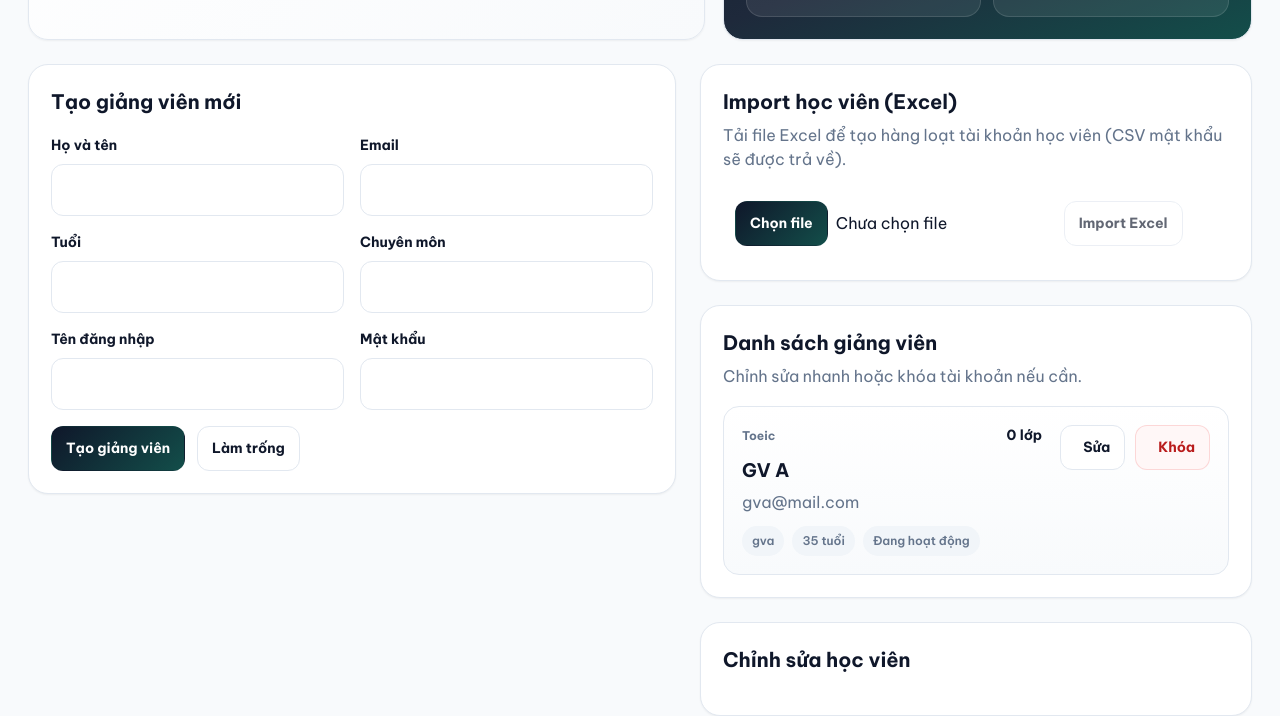
it: AdminUsersPage › cap nhat giang vien thanh cong
(page scrolled)
Click the button "Sửa" at (1093, 447), box 1060,425 -> 1125,470
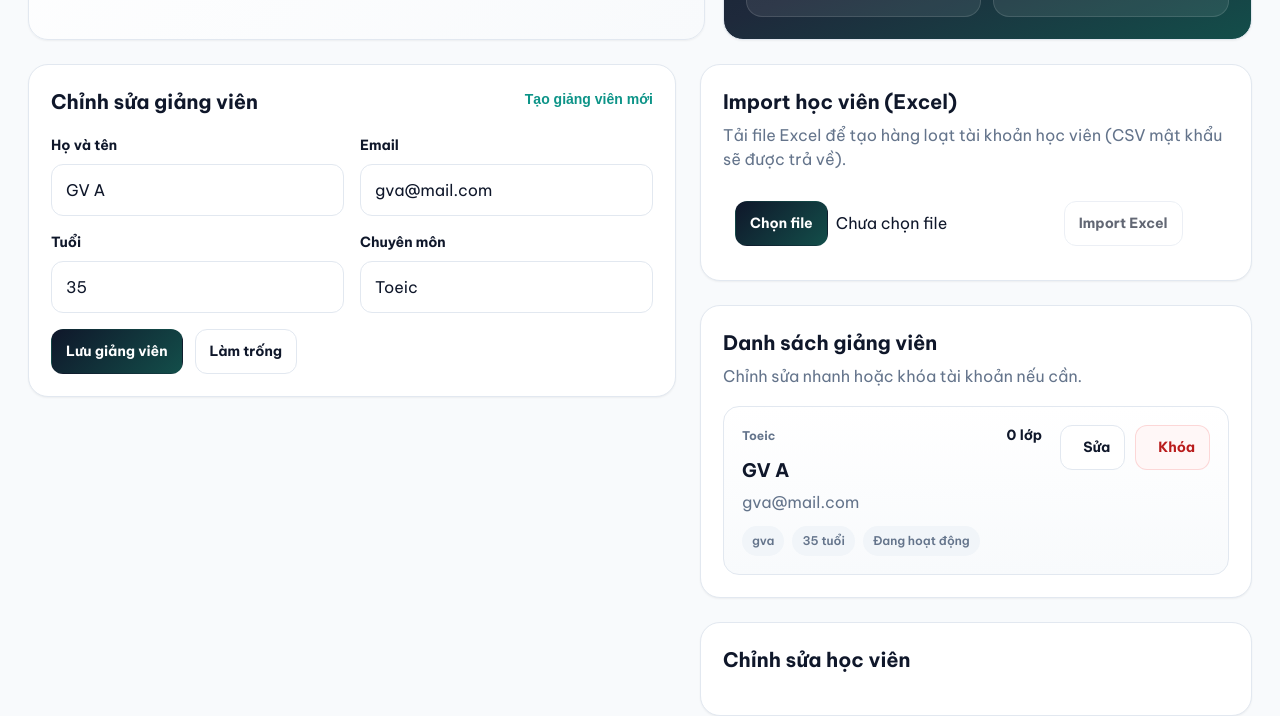
Replace the text in the field labelled "Họ và tên" with "GV Updated" at (198, 190), box 51,164 -> 344,216
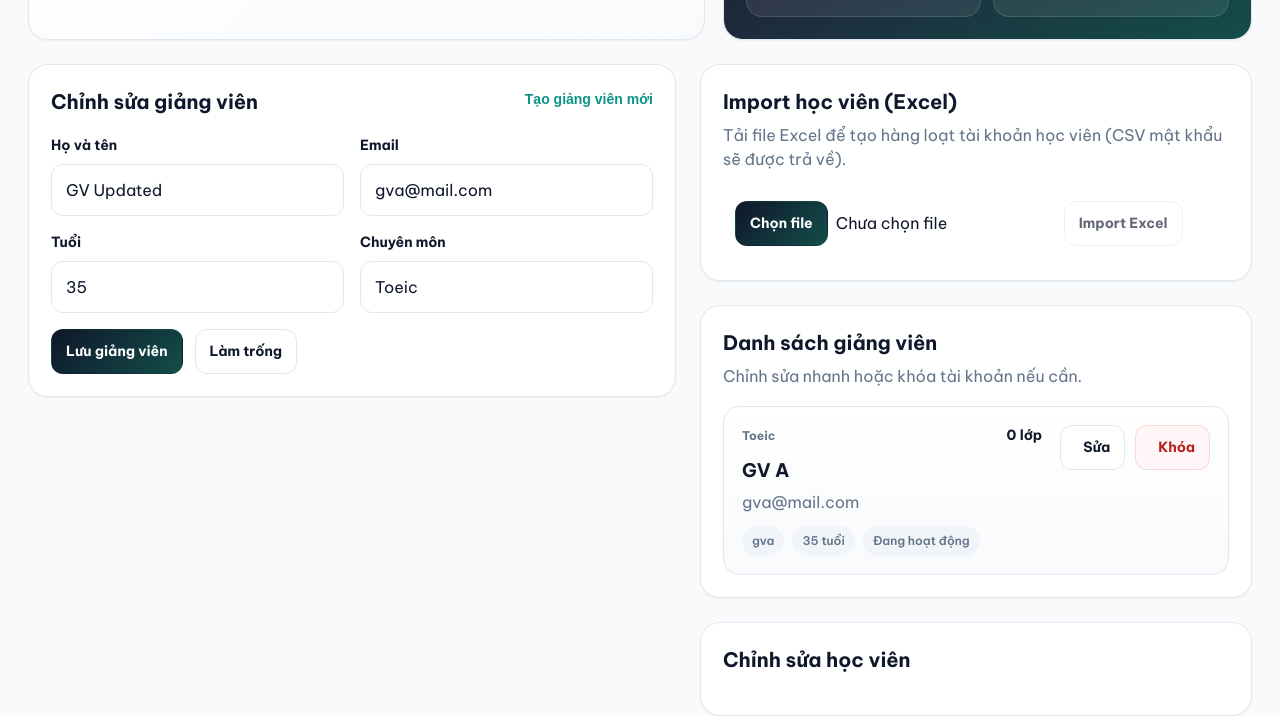
Click the button "Lưu giảng viên" at (117, 351), box 51,329 -> 182,374
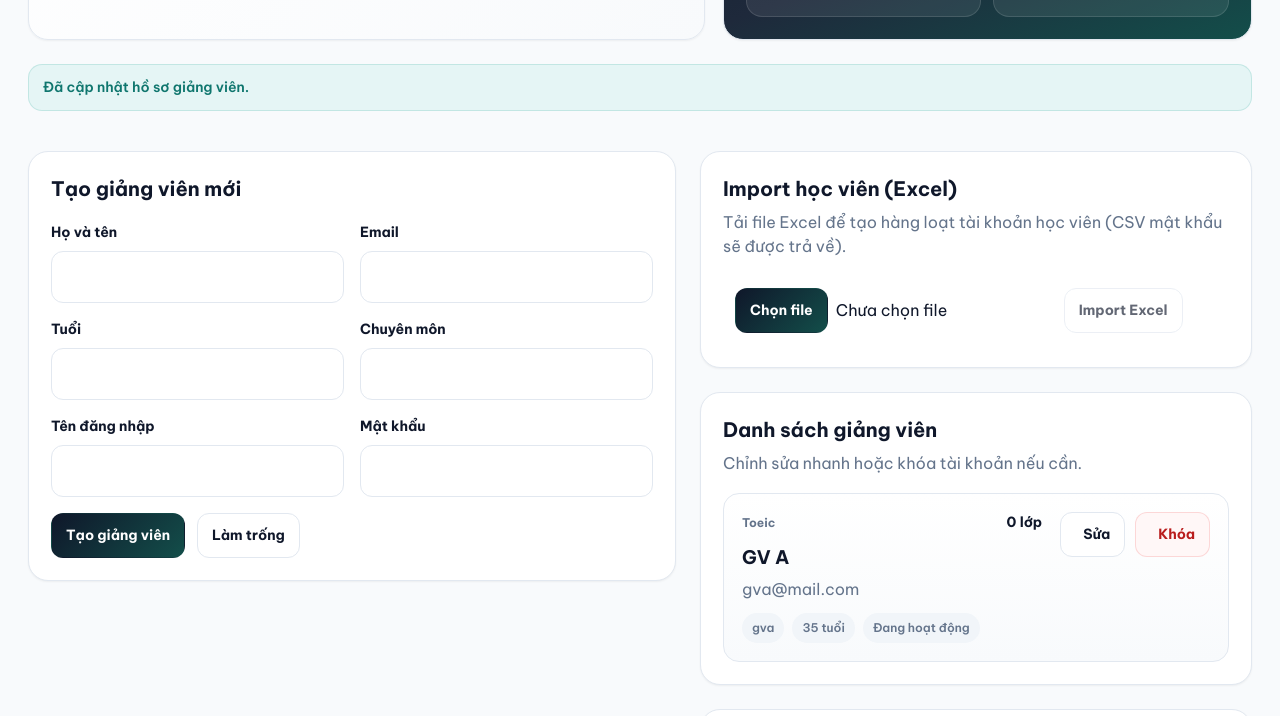
expect the text "Đã cập nhật hồ sơ giảng viên." is shown: met, box 28,64 -> 1252,111
